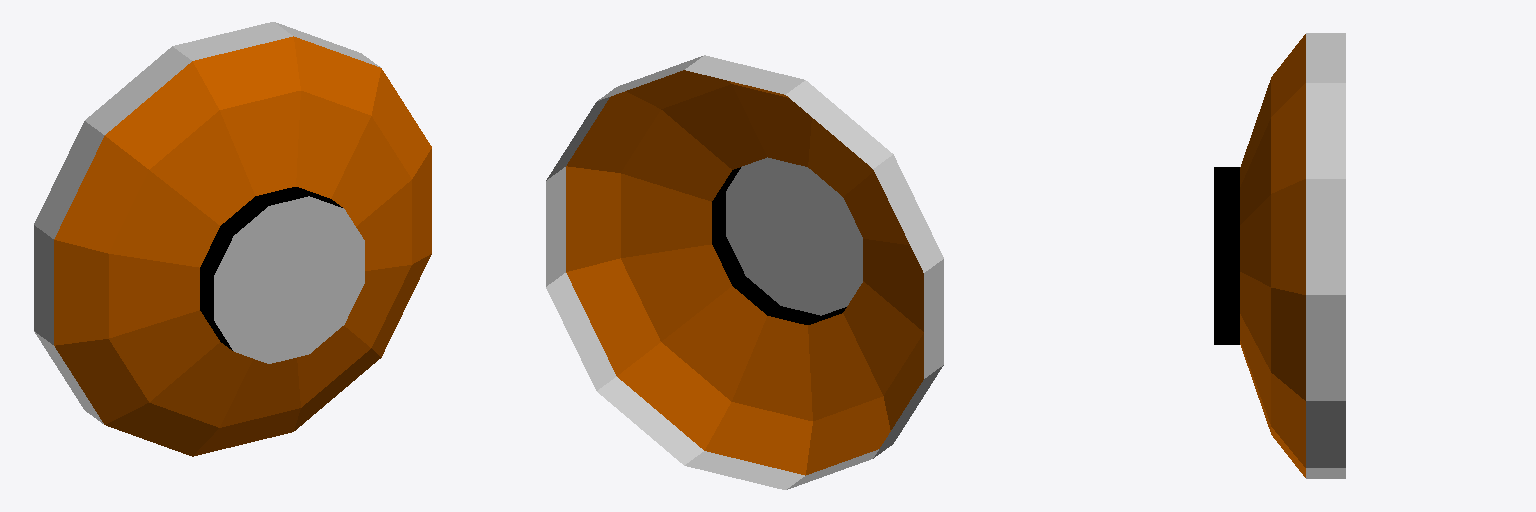
The model's file is Track4Button.obj.
3 renders of one model, left to right at view 1: azimuth 30°, elevation 25°; view 2: azimuth 150°, elevation 25°; view 3: azimuth 270°, elevation 25°, orthographic.
Visible parts, largest first — view 1: Circle_Circle; view 2: Circle_Circle; view 3: Circle_Circle.
Boxes of the visible parts, x1,y1,x2,y2 form: Circle_Circle: [34, 22, 431, 456]; Circle_Circle: [546, 55, 943, 489]; Circle_Circle: [1214, 33, 1345, 478].
Bounding box in the file's own units: 0.9852 × 0.9852 × 0.2992.